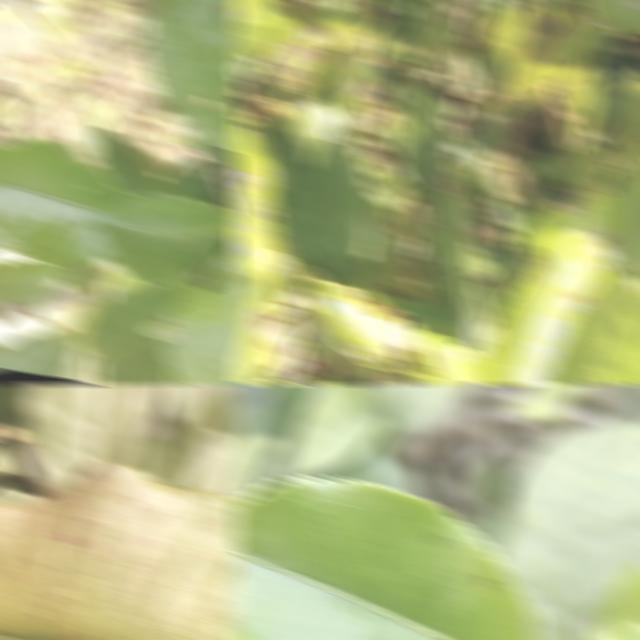Leaf: (232, 477, 539, 640), (0, 458, 240, 640), (480, 148, 622, 385), (494, 417, 640, 640), (254, 88, 374, 288), (0, 137, 133, 267), (414, 151, 497, 354), (24, 383, 168, 492), (232, 126, 292, 385), (233, 7, 365, 120), (143, 0, 240, 151), (87, 192, 240, 286), (305, 280, 442, 379), (497, 5, 607, 109), (538, 273, 640, 385), (446, 7, 531, 141), (280, 383, 389, 479), (77, 284, 179, 385), (152, 281, 240, 385), (394, 75, 446, 199), (87, 114, 161, 196), (316, 31, 373, 135), (390, 383, 477, 434), (411, 330, 491, 385), (232, 0, 302, 61), (556, 58, 601, 152), (0, 328, 82, 379), (589, 563, 640, 640), (232, 434, 283, 504), (605, 69, 640, 167), (0, 258, 71, 306), (413, 0, 471, 56), (527, 147, 585, 194), (582, 0, 640, 38), (380, 0, 421, 53), (573, 140, 610, 172), (545, 383, 595, 404)
